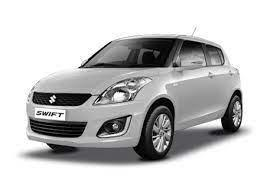Hatchback: (25, 30, 245, 160)
